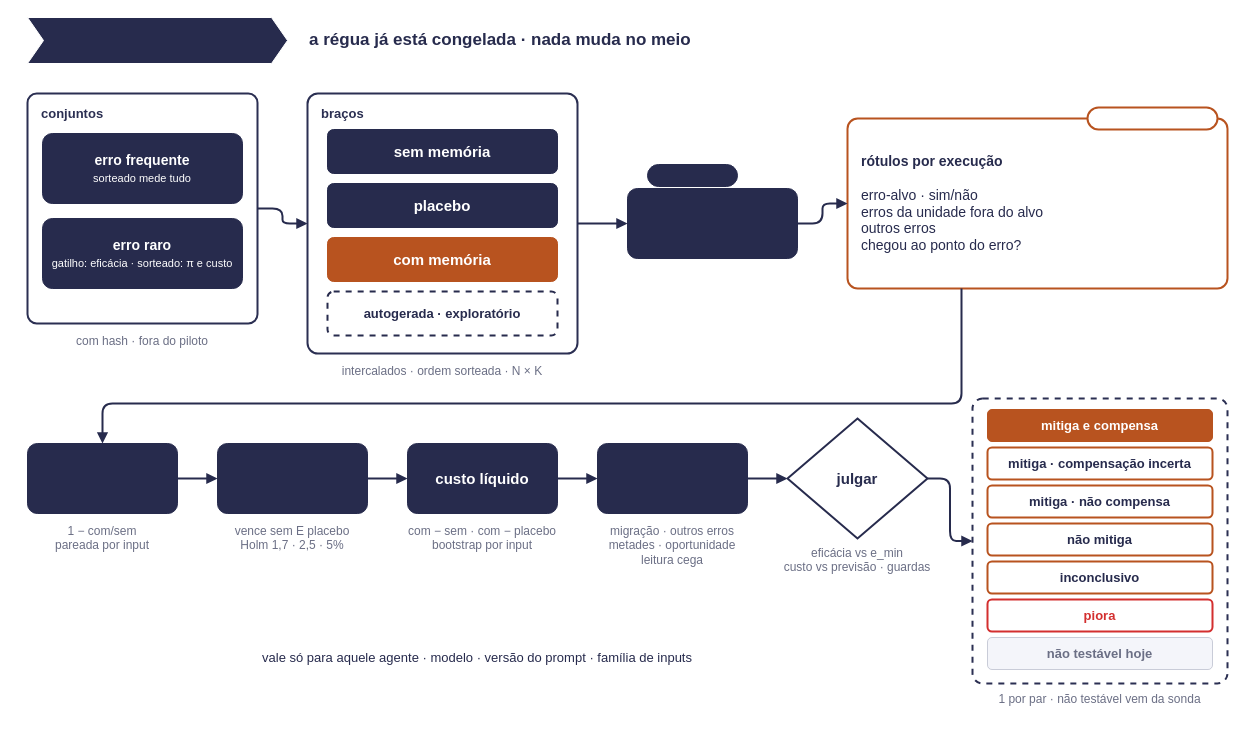
The diagram is 1245 pixels wide and 729 high, and some of its shapes have lost their labels. The centre of each missing label's shape, as x and y in pixels:
"classificador" goes at [712,223].
"congelado" goes at [692,175].
"eficácia" goes at [102,478].
"Estágio 2 · confirmatório" goes at [157,40].
"guardas" goes at [672,478].
"leitura cega" goes at [1152,118].
"significância" goes at [292,478].
